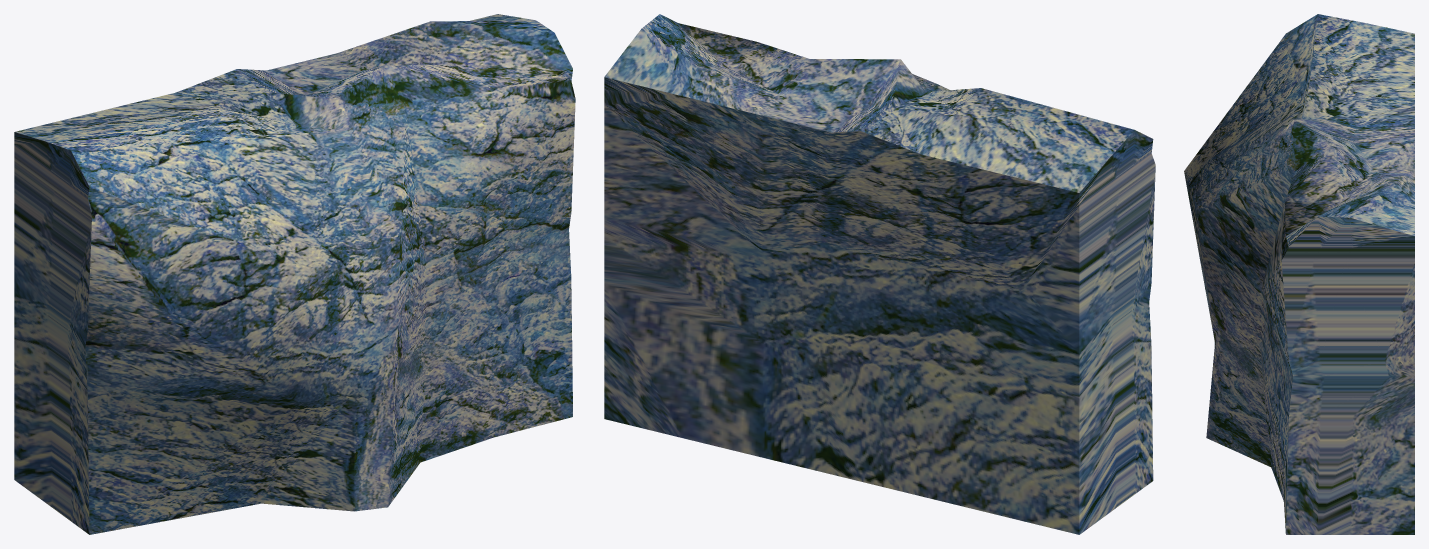
The model's file is rockWall_bulge_02.fbx.
The picture shows the model from 3 angles, left to right: view 1: azimuth 30°, elevation 25°; view 2: azimuth 150°, elevation 25°; view 3: azimuth 270°, elevation 25°; orthographic projection. The views are drawn at different scales.
Parts seen in each view (by area): view 1: pPlane16; view 2: pPlane16; view 3: pPlane16.
Part boxes in pixels (left/top/right/bottom): pPlane16: left=14, top=14, right=575, bottom=534; pPlane16: left=604, top=14, right=1155, bottom=534; pPlane16: left=1184, top=14, right=1414, bottom=534.
Bounding box in the file's own units: 16 × 11.73 × 7.71.
